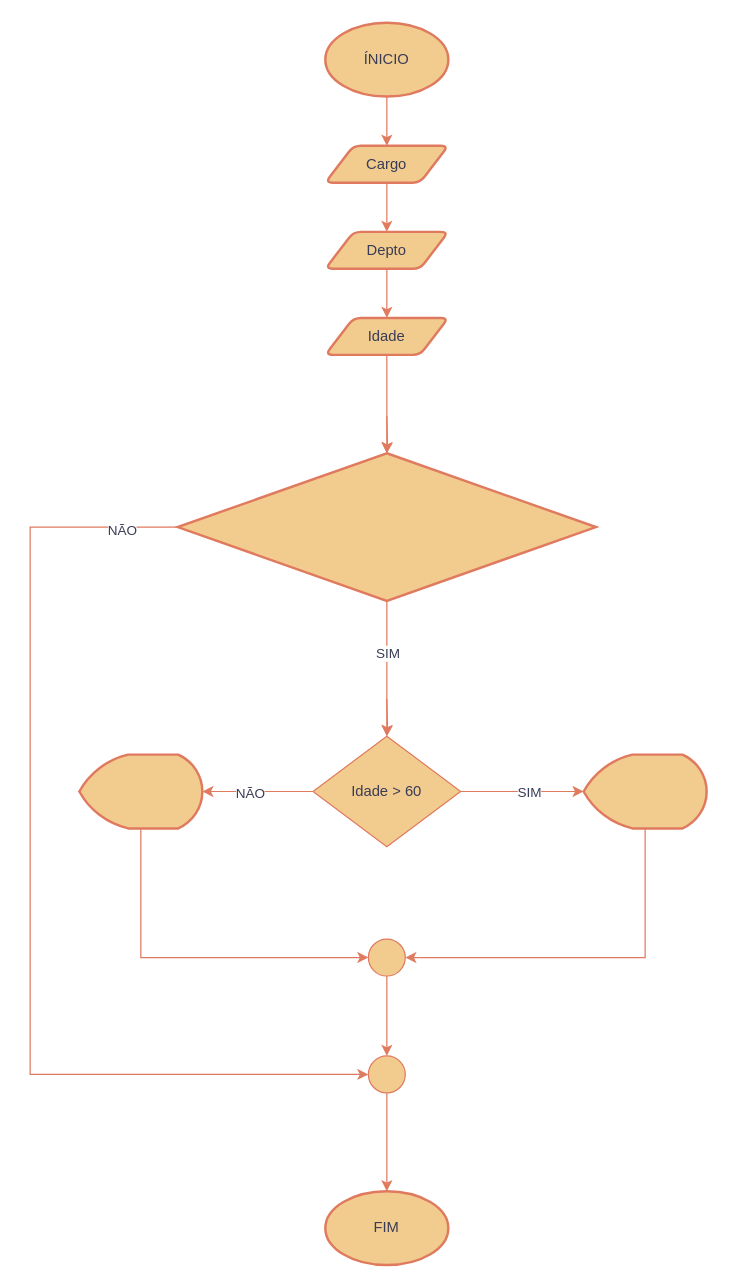
This 729x1287 diagram has some shape labels left out. Each missing label, with the centre of its shape:
"Bonus PLUS": (x=644, y=791)
"Bonus": (x=140, y=791)
Se Cargo == "Gerente" e Depto == "Tic": (x=386, y=526)
